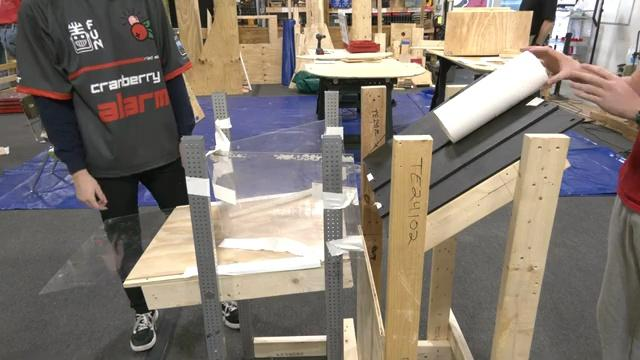CORAL: (431, 49, 549, 143)
